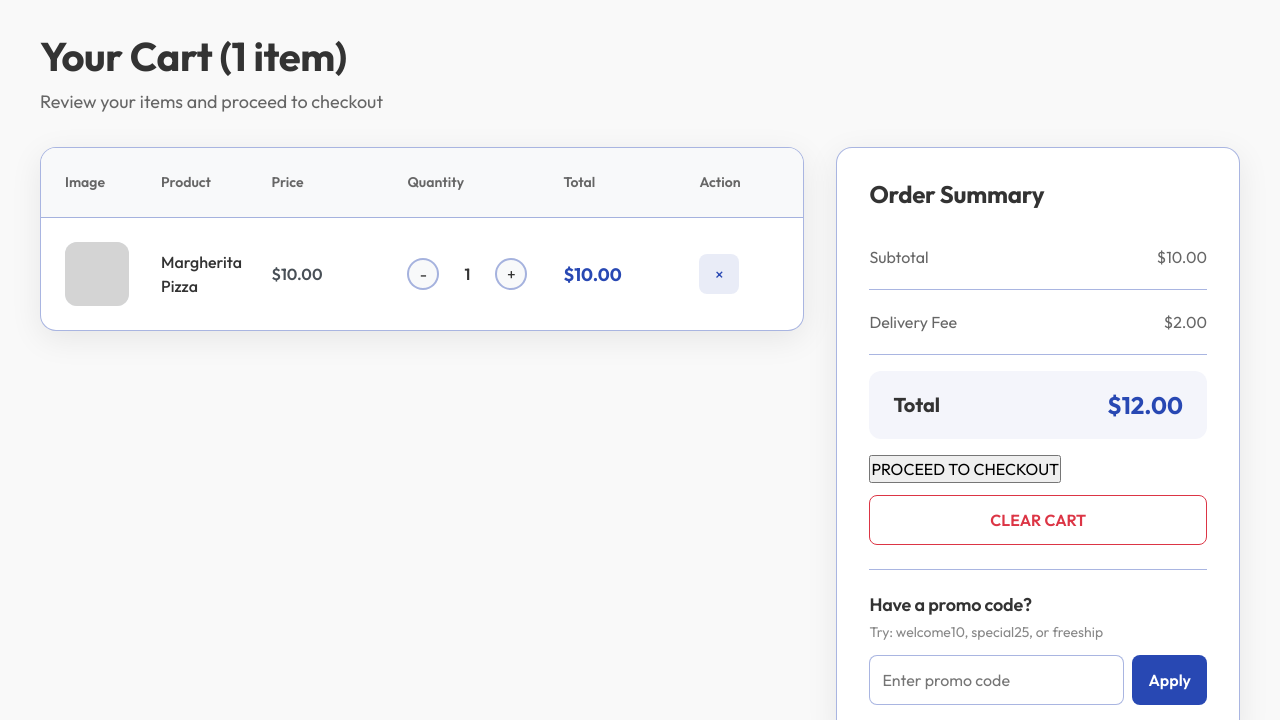
Test case: Cart component › waives delivery for the free shipping promo code
The image size is (1280, 720).
In the field labelled "promo code": [997, 680] box x1=869 y1=655 x2=1124 y2=705, type "freeship"
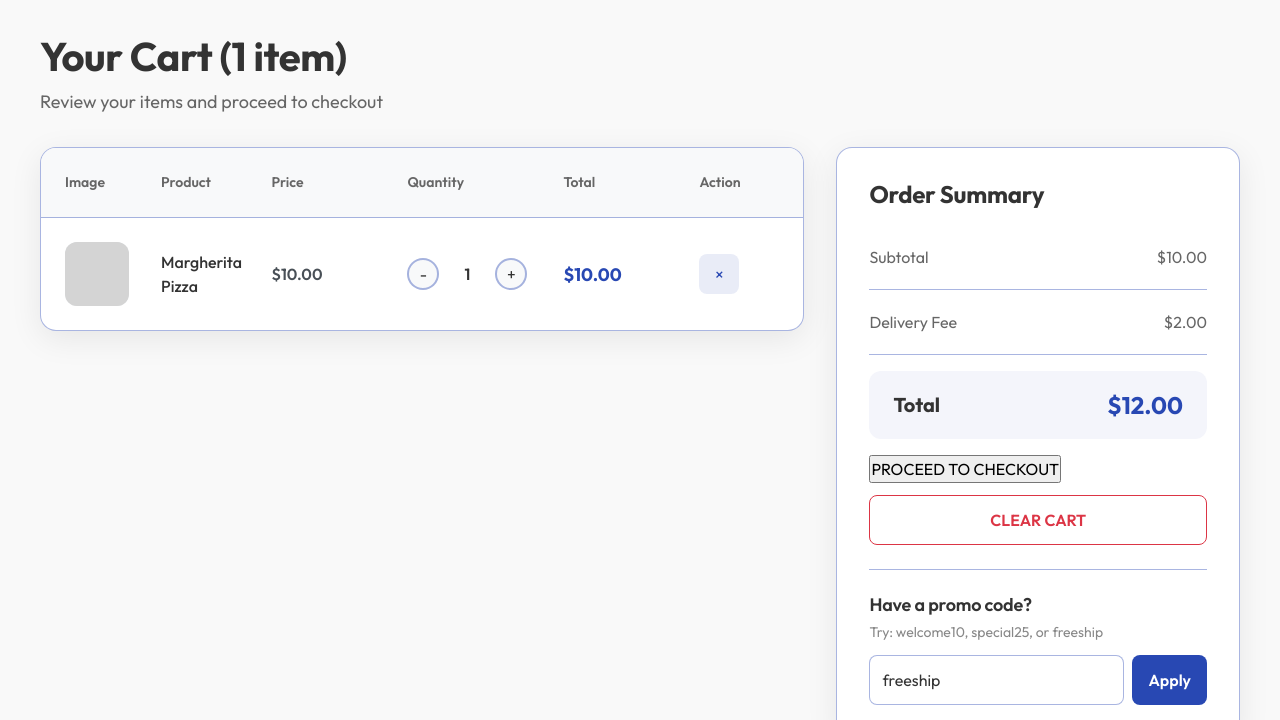
Click the button "Apply": [1170, 680] box x1=1132 y1=655 x2=1207 y2=705
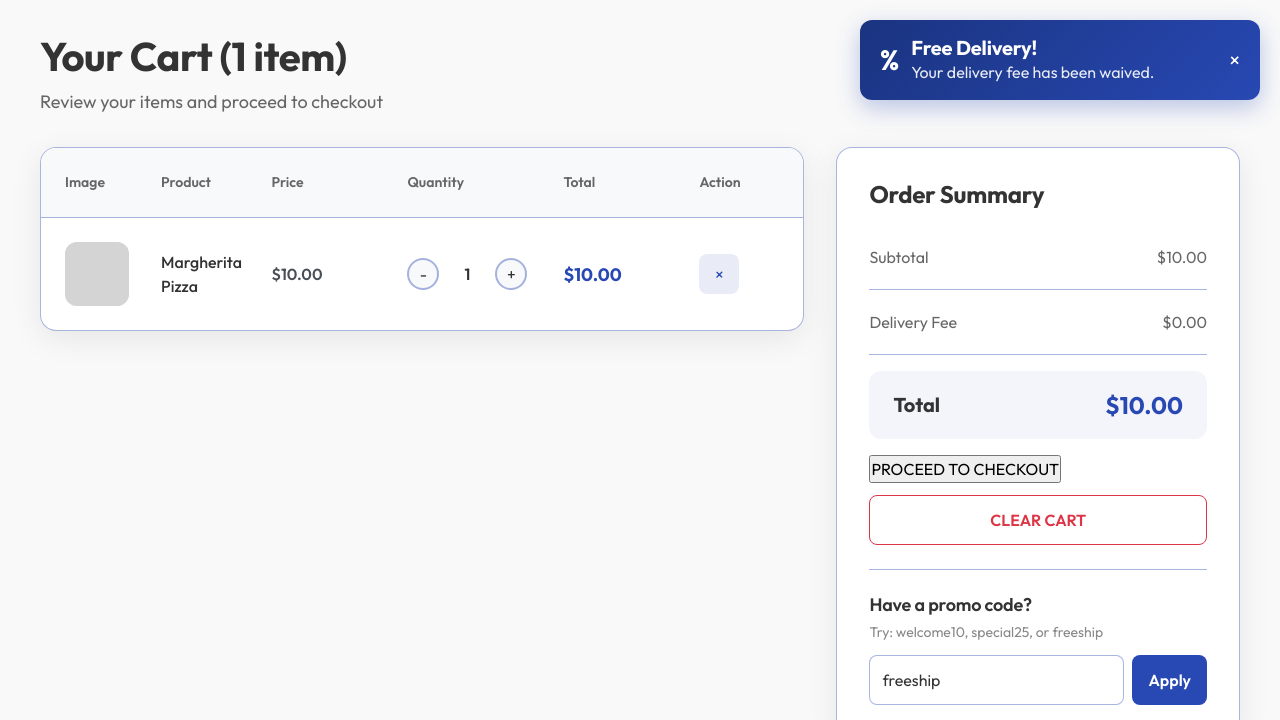
Expected: the 2nd text "$10.00" is shown, x1=271 y1=264 x2=322 y2=284
Now the heading "Free Delivery!" is shown, box x1=911 y1=35 x2=1037 y2=60
Now the text "$0.00" is shown, box x1=1162 y1=310 x2=1207 y2=334
